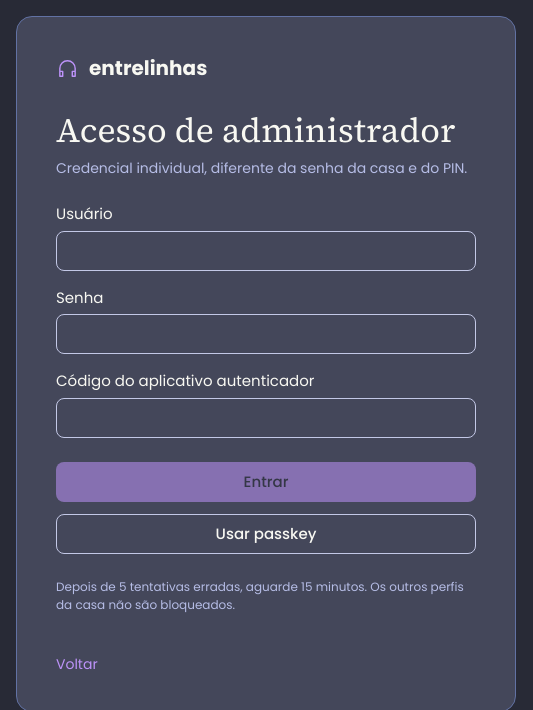
wrong credentials show generic error message without revealing which field failed
The image size is (533, 710).
Type "evaldo" into the field labelled "Usuário".
click(266, 251); type("evaldo")  # box x1=56 y1=231 x2=476 y2=271
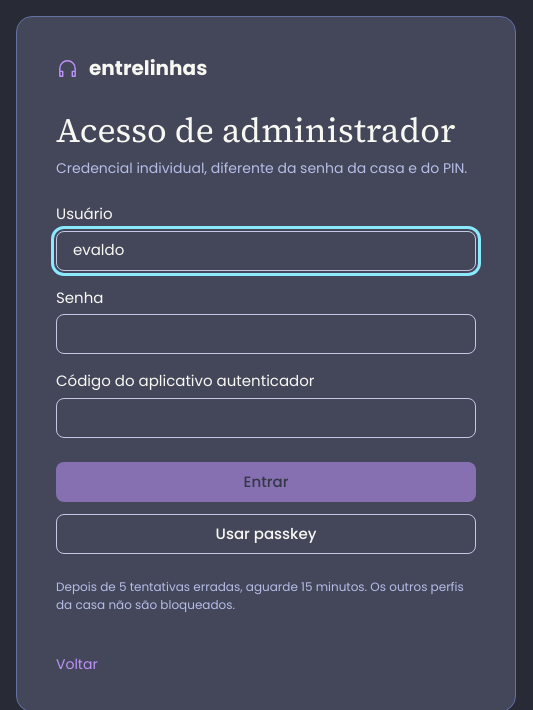
Type "senha-errada" into the password field labelled "Senha".
click(266, 334); type("senha-errada")  # box x1=56 y1=314 x2=476 y2=354
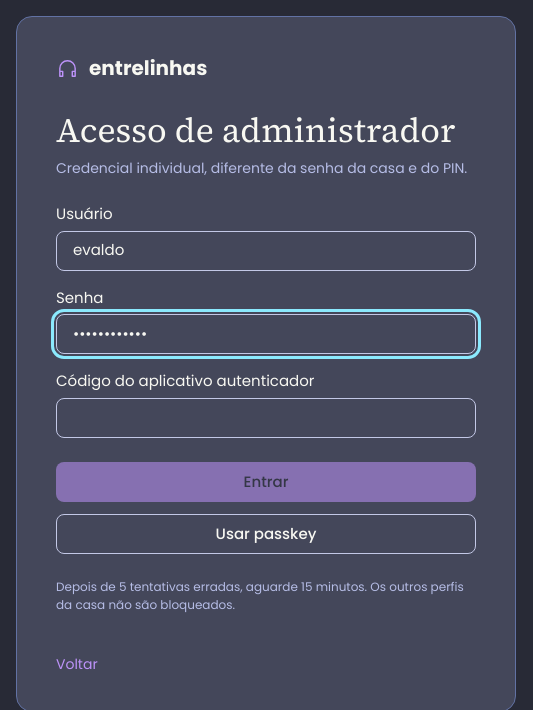
Type "482913" into the field labelled "Código do aplicativo autenticador".
click(266, 418); type("482913")  # box x1=56 y1=398 x2=476 y2=438
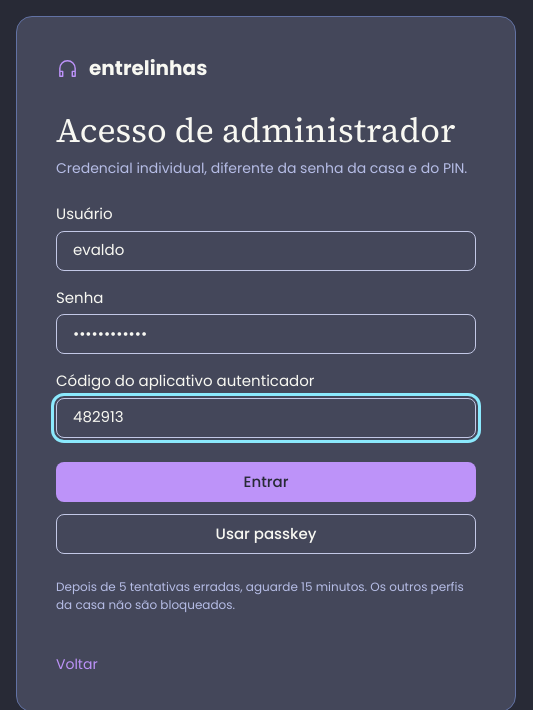
Click the button "Entrar".
click(266, 482)  # box x1=56 y1=462 x2=476 y2=502
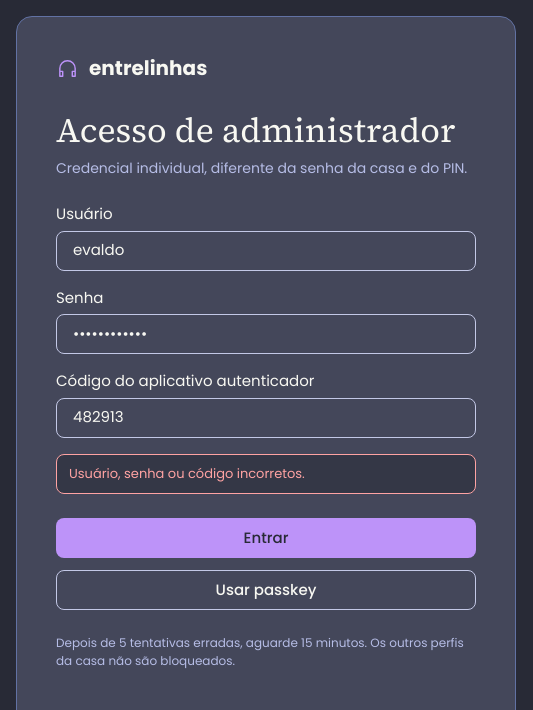
Check: the message reads "Usuário, senha ou código incorretos.", box x1=69 y1=464 x2=305 y2=483
Changing inputs clears error
Type "a" into the password field labelled "Senha".
click(266, 334); type("a")  # box x1=56 y1=314 x2=476 y2=354
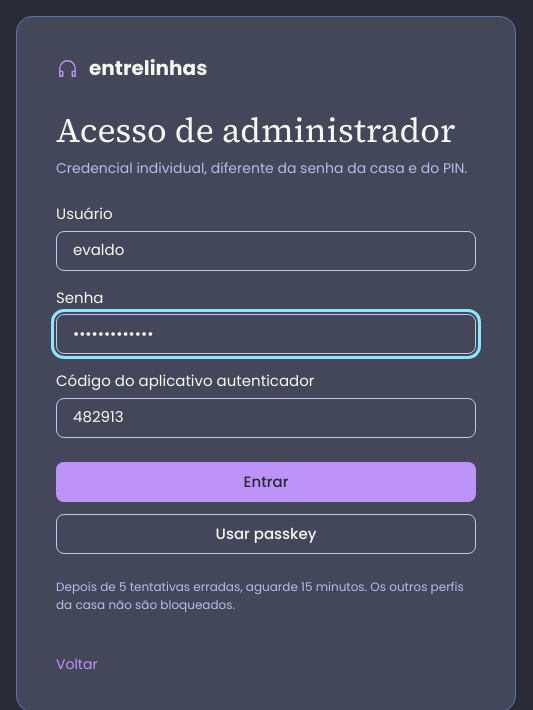
Check: the message "Usuário, senha ou código incorretos." is gone
